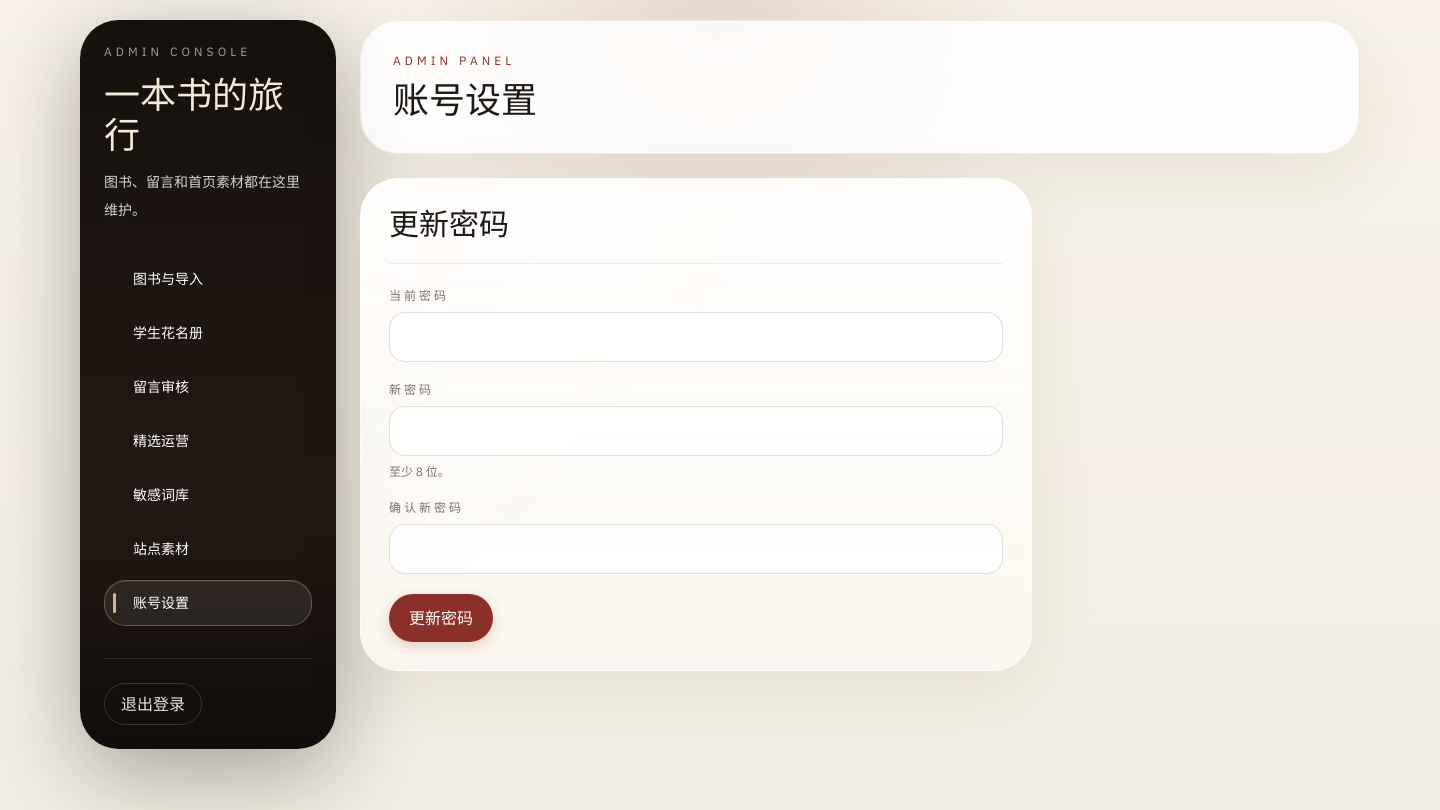
Test case: Account settings › shows api errors when password change fails
The width and height of the screenshot is (1440, 810).
Type "wrong-password" into the password field labelled "当前密码" at point(696, 337), box [389,312,1003,362]
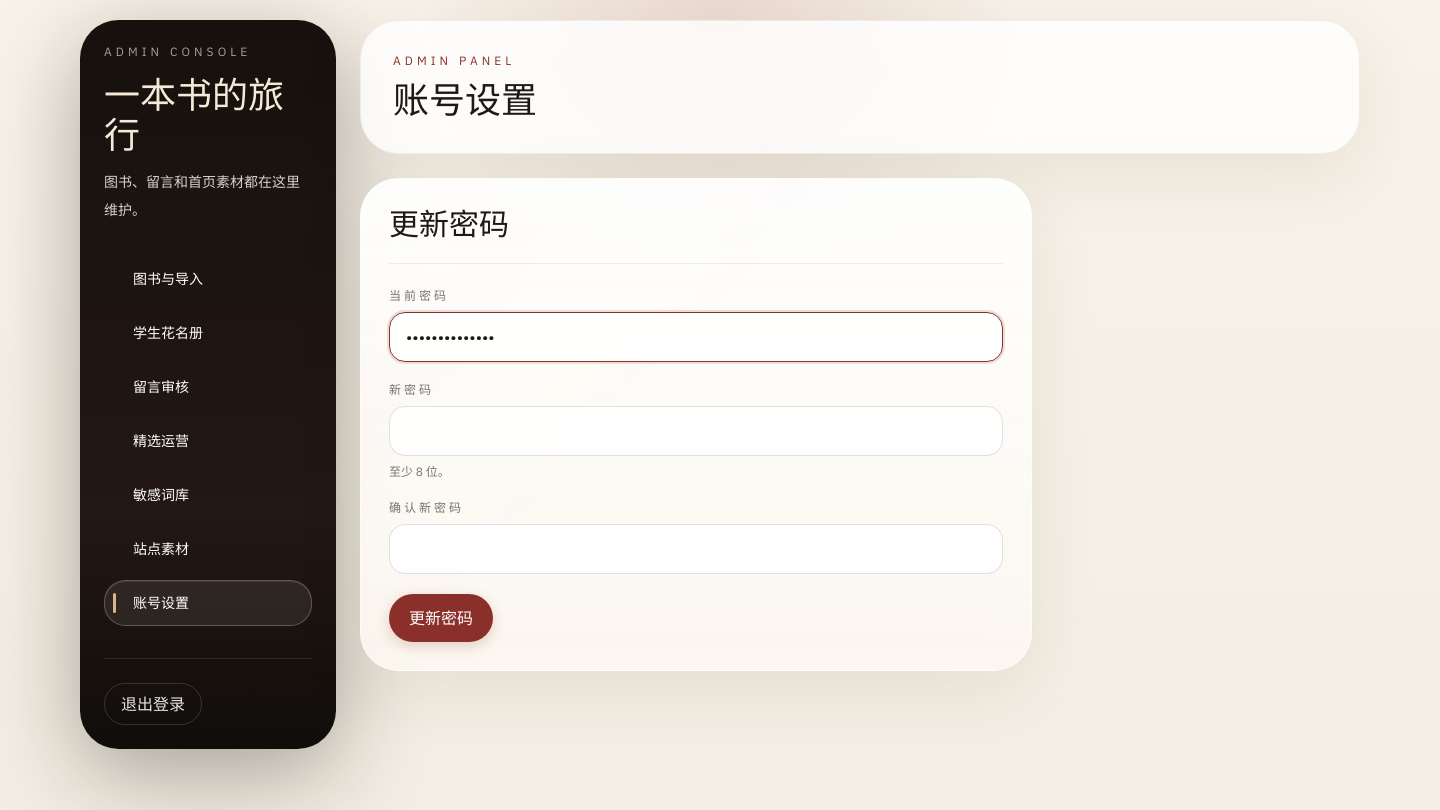
Type "new-admin-password" into the password field labelled "新密码" at point(696, 431), box [389,406,1003,456]
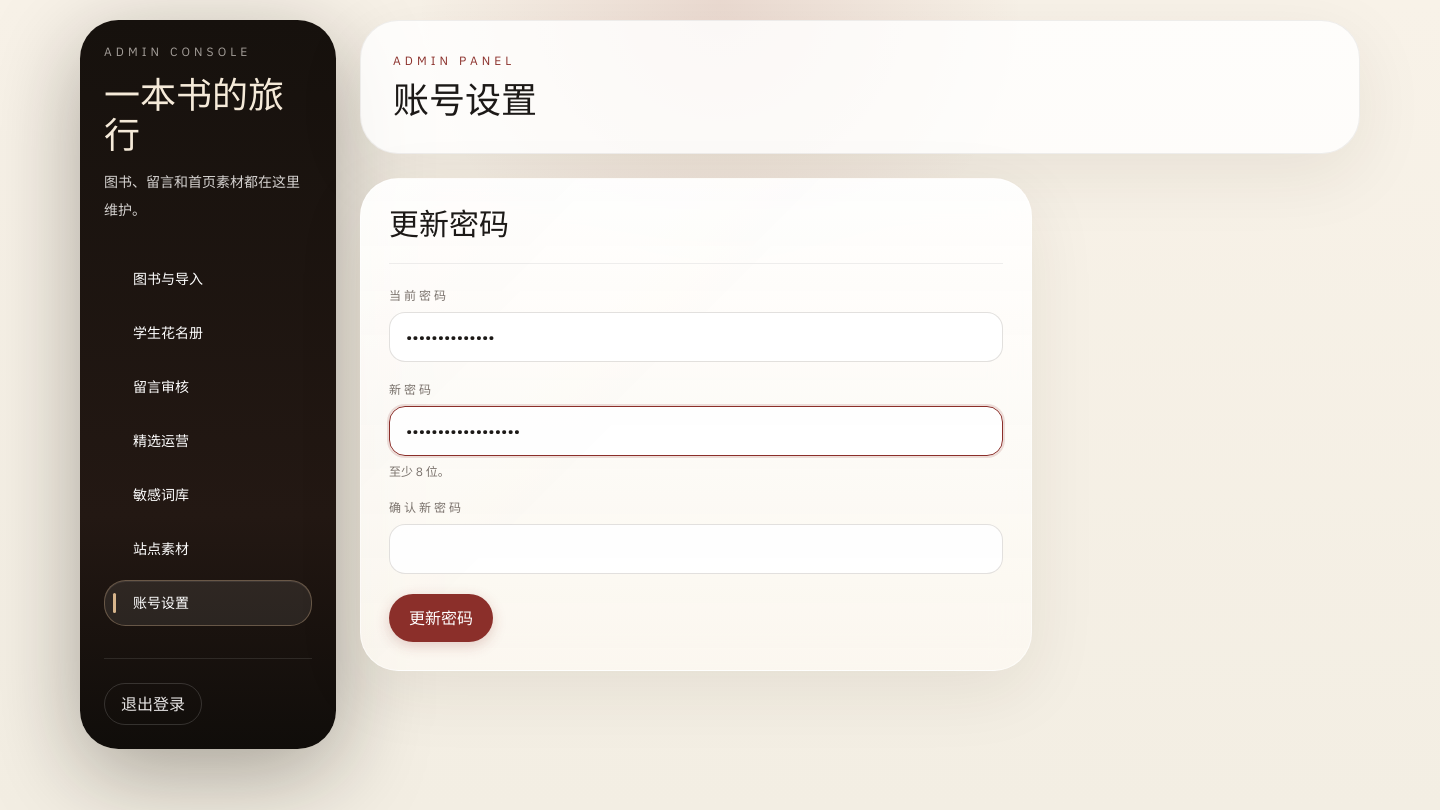
Type "new-admin-password" into the password field labelled "确认新密码" at point(696, 549), box [389,524,1003,574]
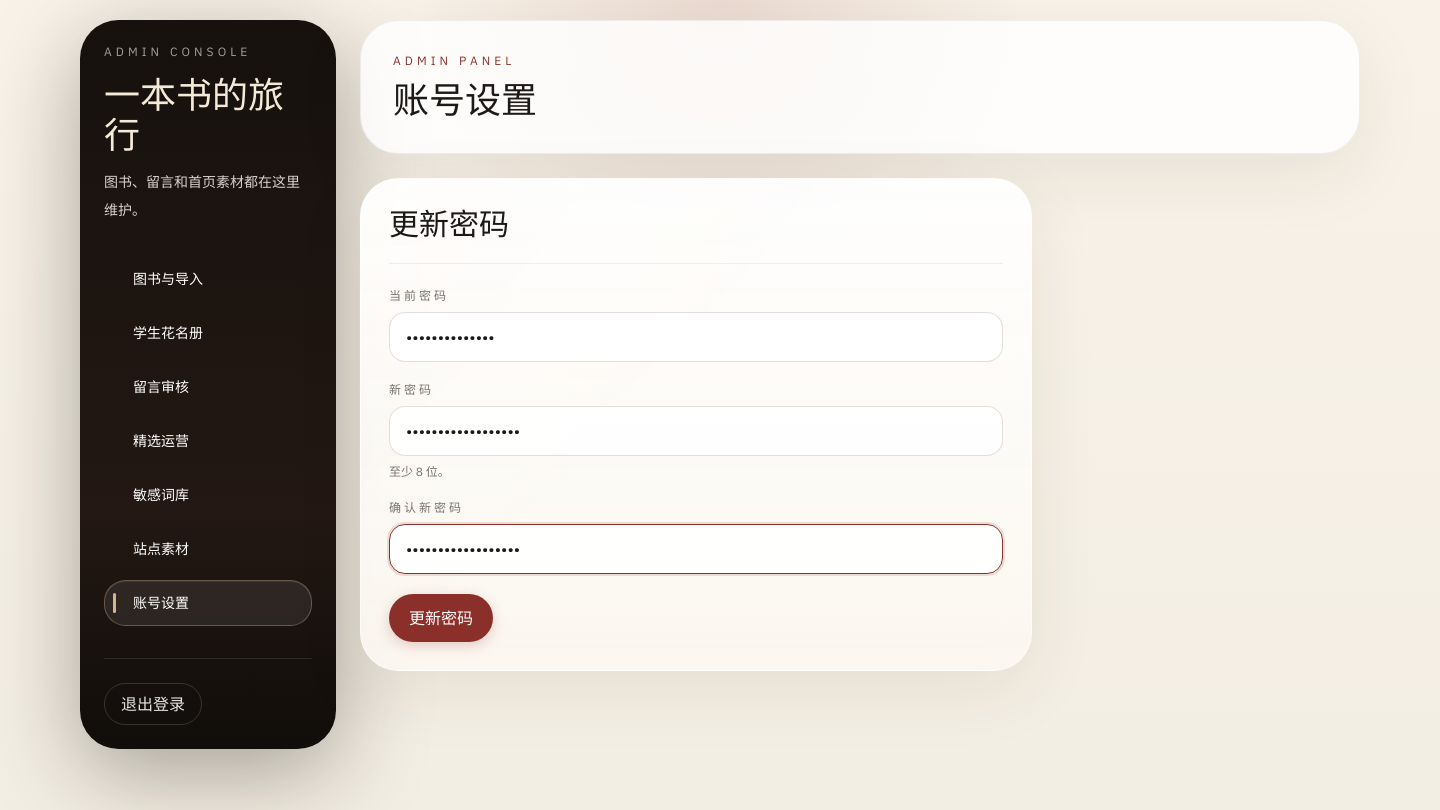
Click the button "更新密码" at point(441, 618), box [389,594,493,642]
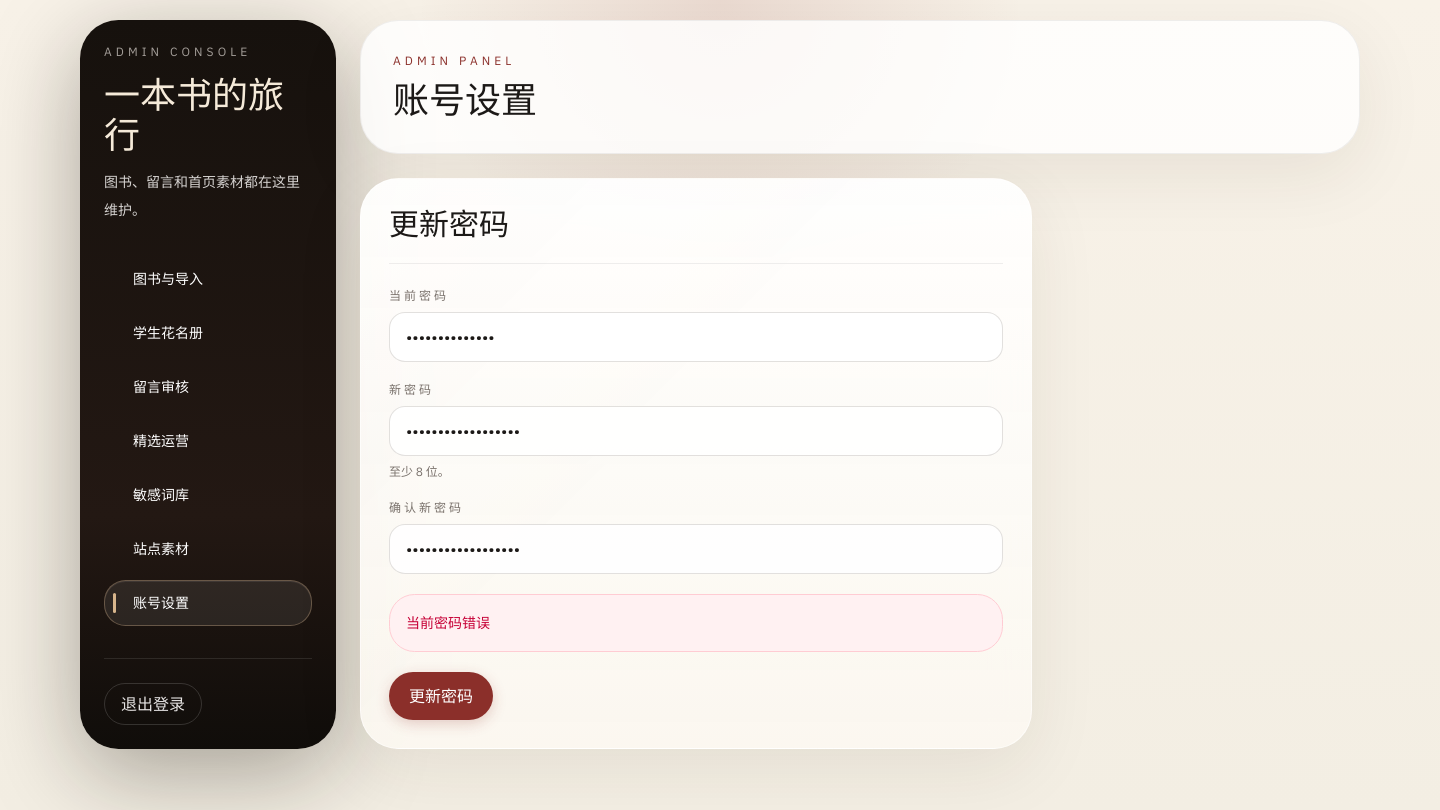
Check: the text "当前密码错误" is shown, box [389,594,1003,652]
